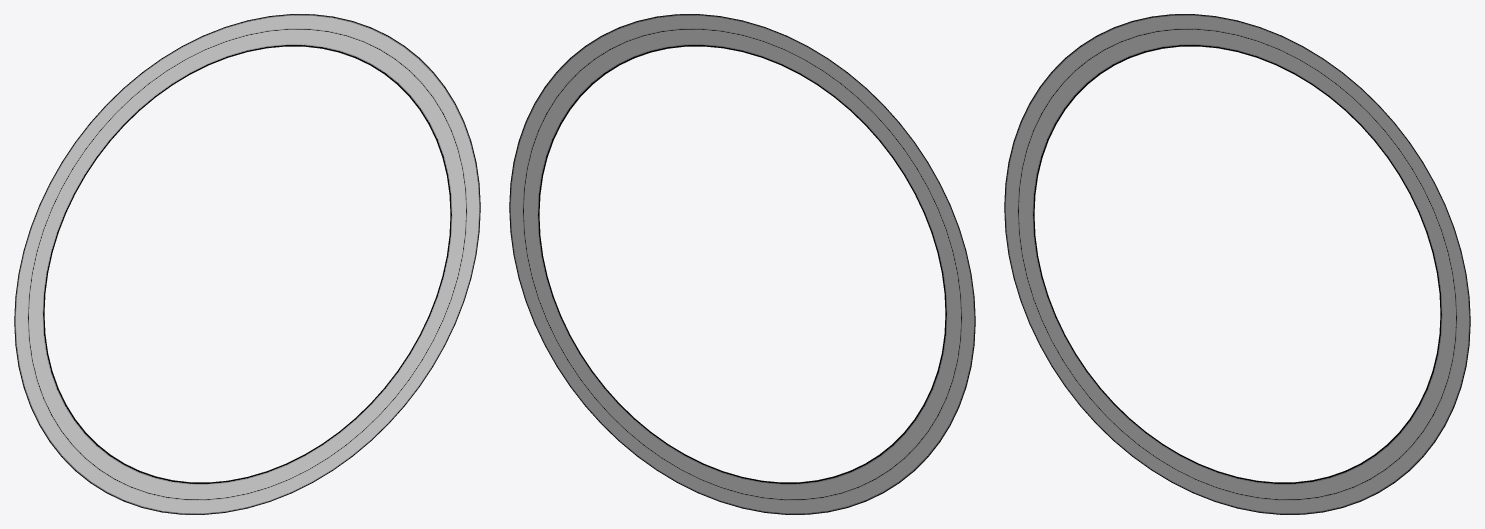
The model's file is uranus_ring.obj.
The picture shows the model from 3 angles, left to right: view 1: azimuth 30°, elevation 25°; view 2: azimuth 150°, elevation 25°; view 3: azimuth 330°, elevation 25°; orthographic projection.
Visible parts, largest first — view 1: Uranus_ring; view 2: Uranus_ring; view 3: Uranus_ring.
Boxes of the visible parts, <box> form: Uranus_ring: <box>14,14,480,514</box>; Uranus_ring: <box>509,14,975,514</box>; Uranus_ring: <box>1004,14,1470,514</box>.
Bounding box in the file's own units: 200000 × 200000 × 0.00874.
Materials: 1 (1 with a texture image).
